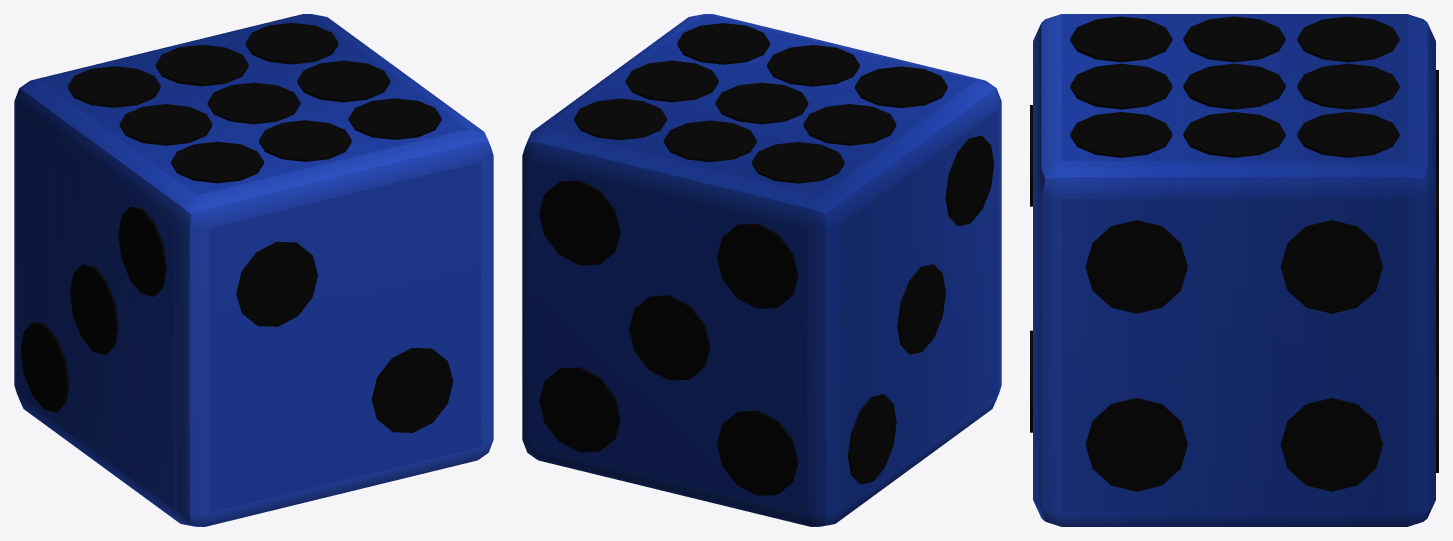
File: Dice_04.fbx
3 renders of one model, left to right at view 1: azimuth 30°, elevation 25°; view 2: azimuth 150°, elevation 25°; view 3: azimuth 270°, elevation 25°, orthographic. The views are drawn at different scales.
Visible parts, largest first — view 1: pCube15; view 2: pCube15; view 3: pCube15.
Part boxes in pixels (x1=…): pCube15: x1=14, y1=14, x2=493, y2=526; pCube15: x1=522, y1=14, x2=1001, y2=526; pCube15: x1=1030, y1=14, x2=1438, y2=526.
Bounding box in the file's own units: 2.03 × 2.03 × 2.03.
